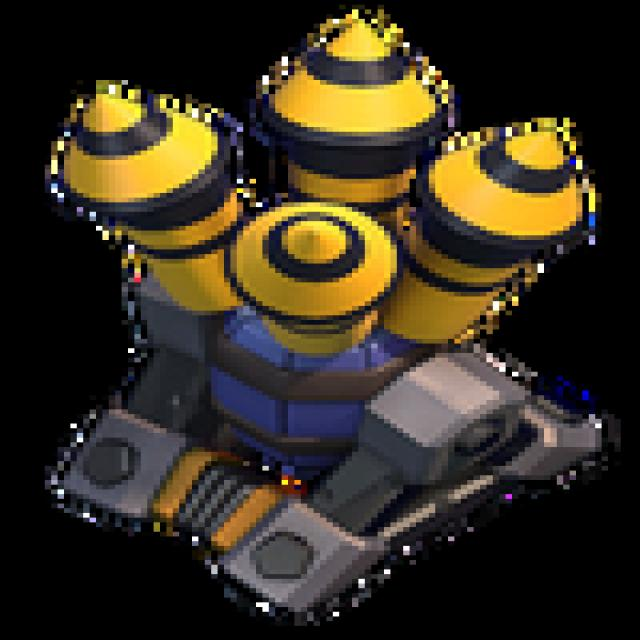air_defense: (23, 0, 618, 625)
